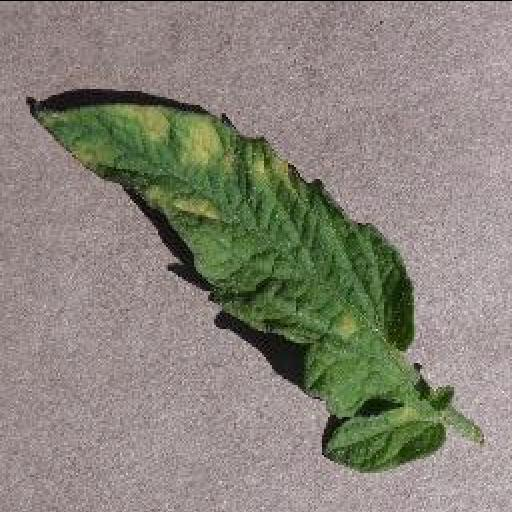disease_tomato: (29, 101, 447, 473)
